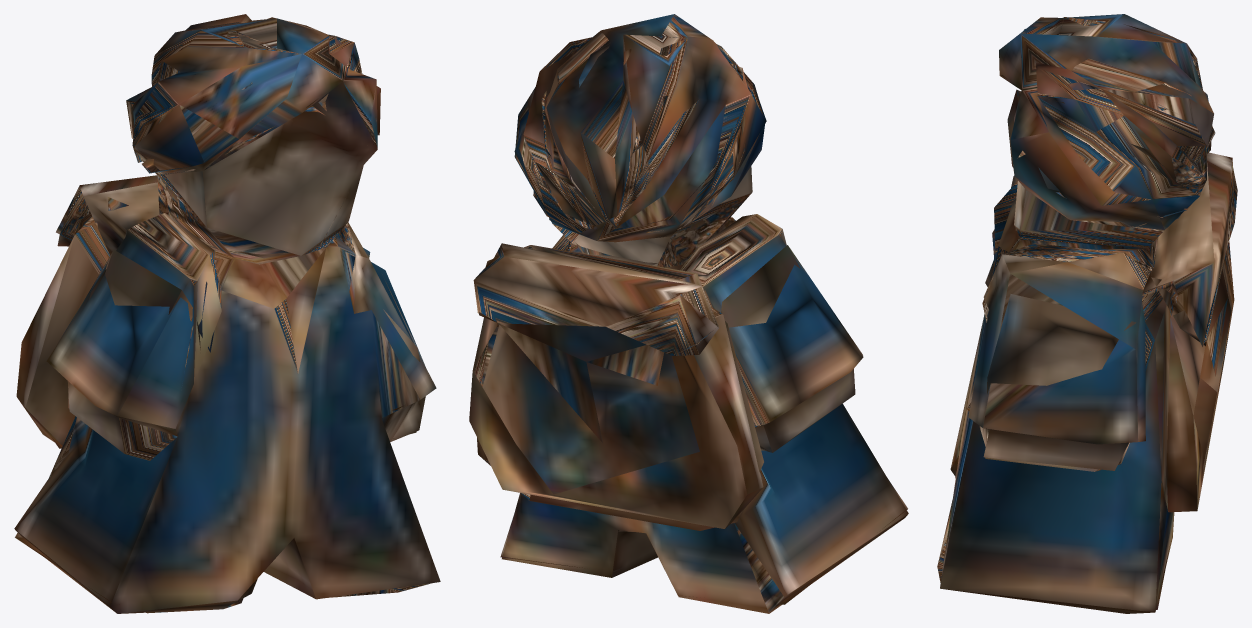
The model's file is meeple-lite.glb.
3 renders of one model, left to right at view 1: azimuth 30°, elevation 25°; view 2: azimuth 150°, elevation 25°; view 3: azimuth 270°, elevation 25°, orthographic. The views are drawn at different scales.
Parts seen in each view (by area): view 1: geometry_0; view 2: geometry_0; view 3: geometry_0.
Boxes of the visible parts, x1,y1,x2,y2 form: geometry_0: [14, 14, 440, 613]; geometry_0: [469, 14, 908, 613]; geometry_0: [937, 14, 1237, 613].
Bounding box in the file's own units: 0.5565 × 0.8476 × 0.4278.
Materials: 1 (1 with a texture image).
